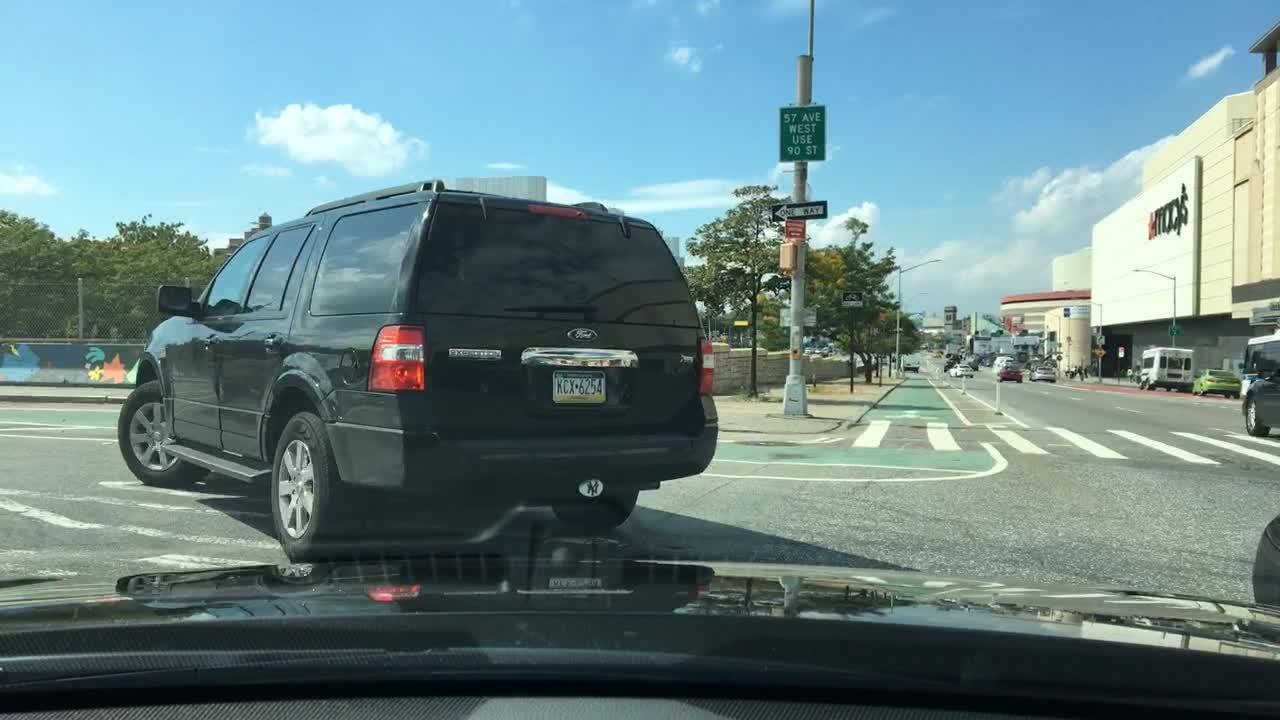ford: (553, 321, 610, 349)
